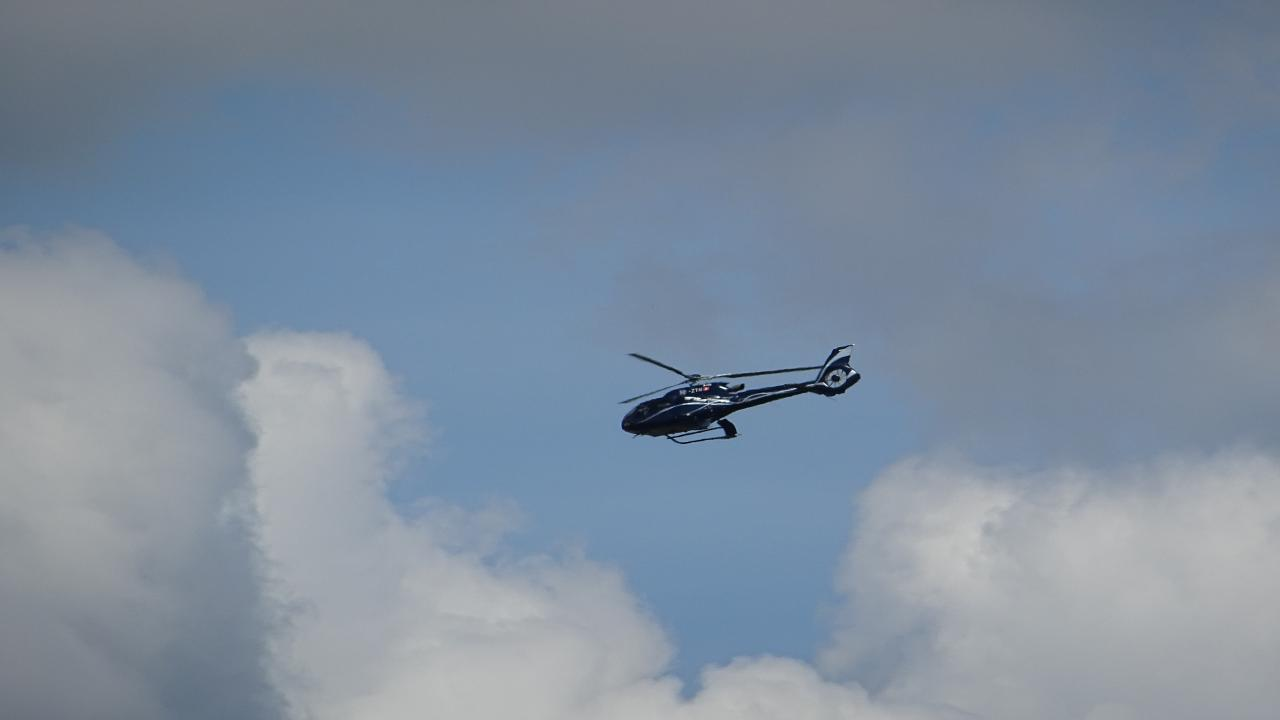Helicopter: (585, 328, 890, 473)
